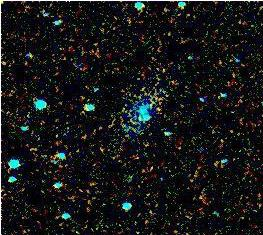star: (135, 100, 165, 130)
